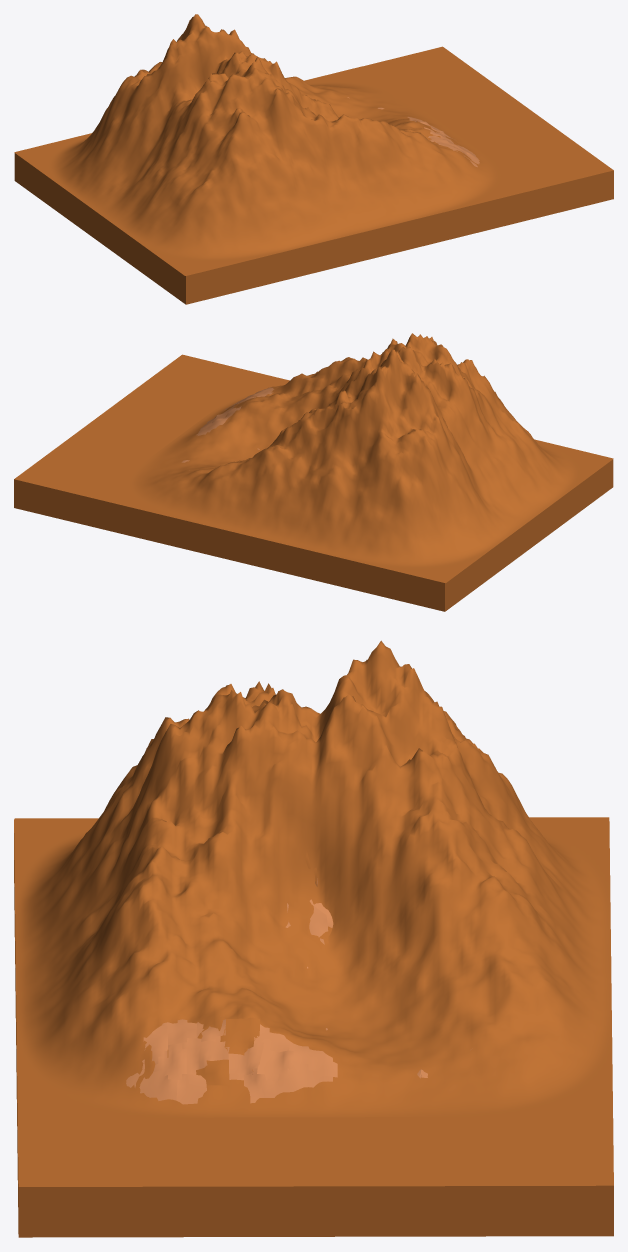
The model's file is Landslide_3.glb.
3 views of the same model, one above another, from view 1: azimuth 30°, elevation 25°; view 2: azimuth 150°, elevation 25°; view 3: azimuth 270°, elevation 25° (orthographic). The views are drawn at different scales.
Parts seen in each view (by area): view 1: Landscape, Cube; view 2: Landscape, Cube; view 3: Landscape, Cube, Landscape.033, Landscape.037, Landscape.042, Landscape.043, Landscape.040, Landscape.030, Landscape.038, Landscape.041.
Boxes of the visible parts, x1,y1,x2,y2 form: Landscape: (14,14,532,275); Cube: (14,46,613,304); Landscape: (95,333,613,582); Cube: (14,354,613,611); Landscape: (14,640,612,1117); Cube: (14,819,613,1237); Landscape.033: (182,1036,229,1074); Landscape.037: (220,1017,259,1055); Landscape.042: (289,1041,337,1077); Landscape.043: (278,1061,332,1092); Landscape.040: (257,1048,293,1080); Landscape.030: (153,1042,186,1079); Landscape.038: (228,1041,263,1080); Landscape.041: (243,1068,283,1103).
Bounding box in the file's own units: 30.41 × 12.54 × 20.86.
